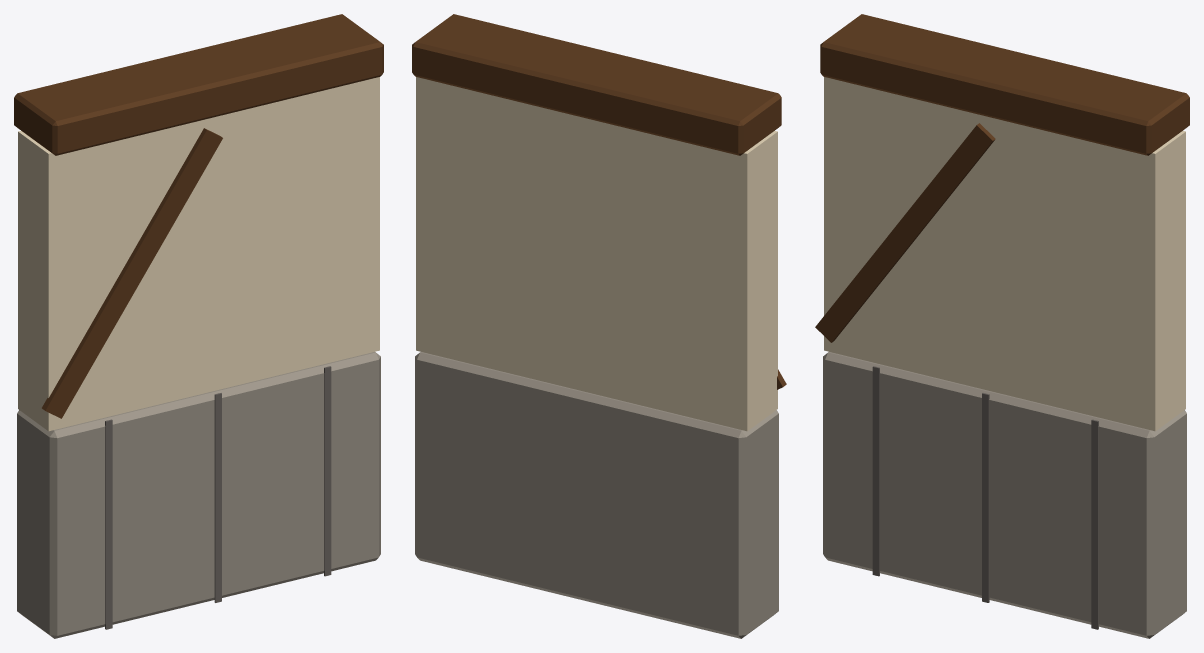
File: PR_Building_Duvar.fbx
The picture shows the model from 3 angles, left to right: view 1: azimuth 30°, elevation 25°; view 2: azimuth 150°, elevation 25°; view 3: azimuth 330°, elevation 25°; orthographic projection.
Visible parts, largest first — view 1: PR_Building_Duvar; view 2: PR_Building_Duvar; view 3: PR_Building_Duvar.
Part boxes in pixels (x1,y1,x2,y2): PR_Building_Duvar: (14,14,383,638); PR_Building_Duvar: (412,14,786,638); PR_Building_Duvar: (815,14,1189,638).
Bounding box in the file's own units: 1.02 × 1.5 × 0.22.
